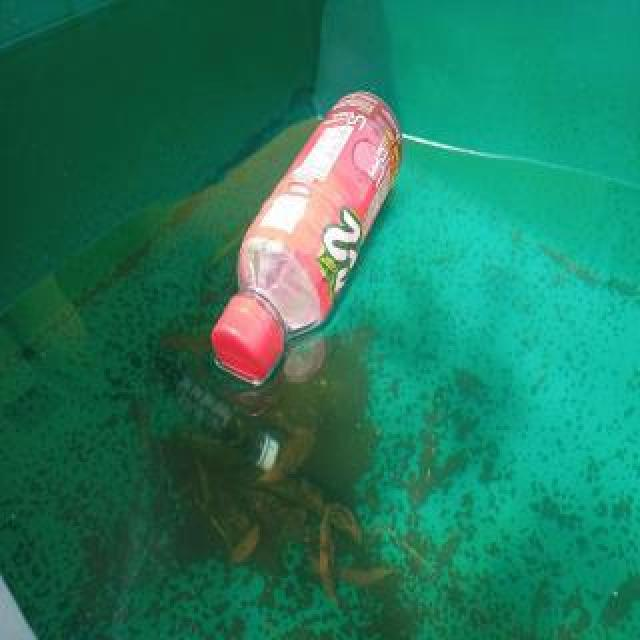bottle: (211, 86, 409, 386)
